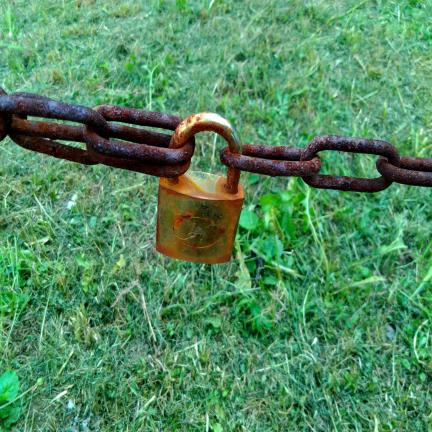karat: (0, 89, 320, 263)
